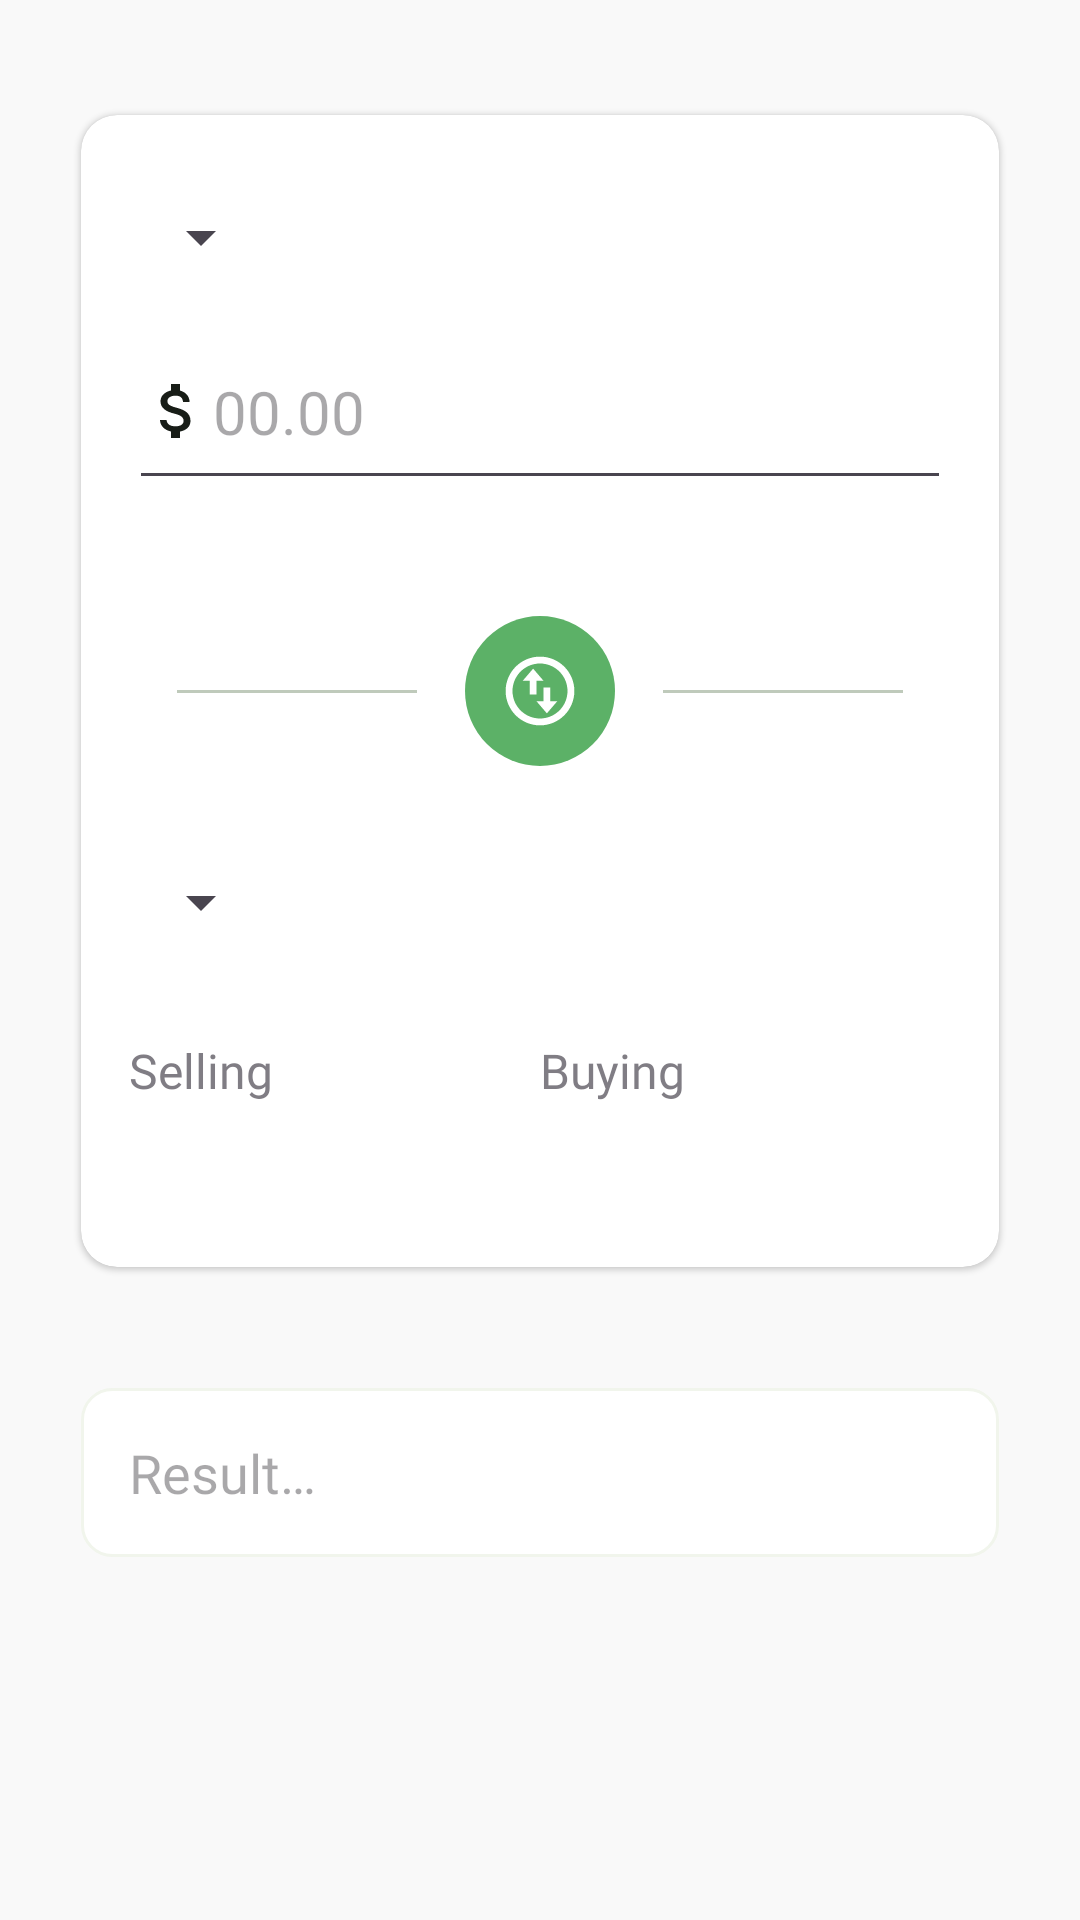

Screen size 1080w x 1920h. Icon name, then its box in pixels as [x1, y1, x2, y2]:
converter: [465, 616, 615, 766]
